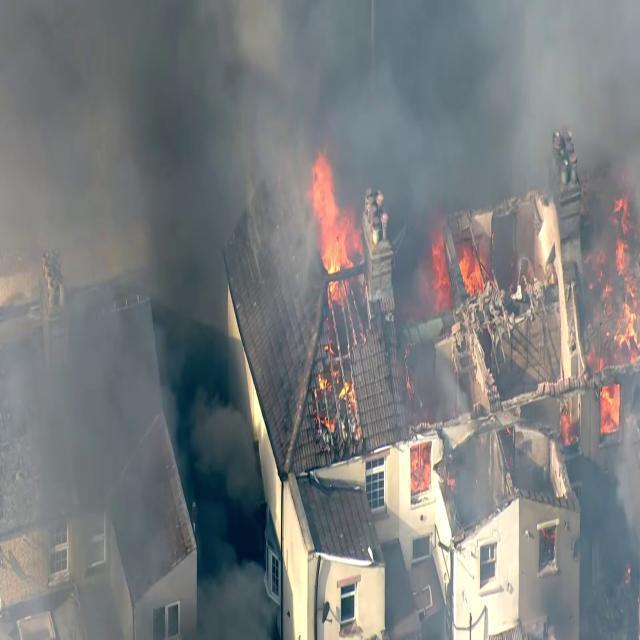Fire: (579, 192, 640, 365), (303, 154, 365, 292), (425, 235, 480, 301)
Smoke: (0, 0, 241, 223)
